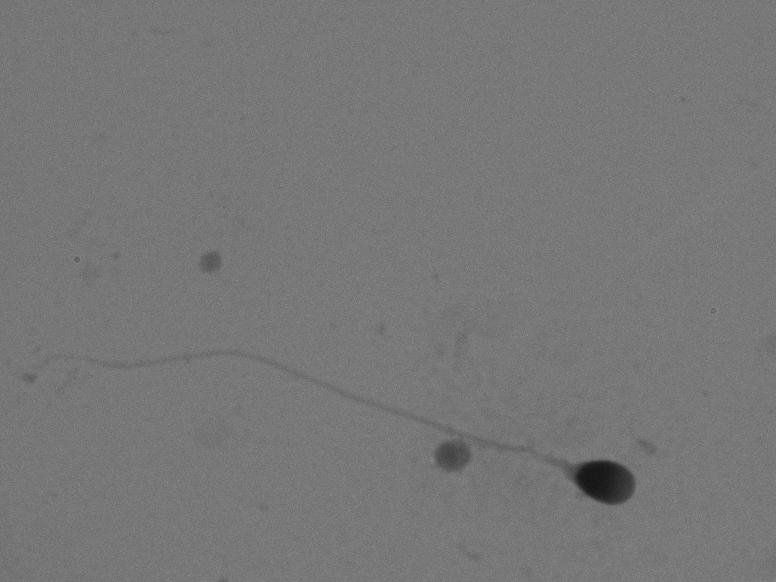Normal: (30, 305, 644, 513)
